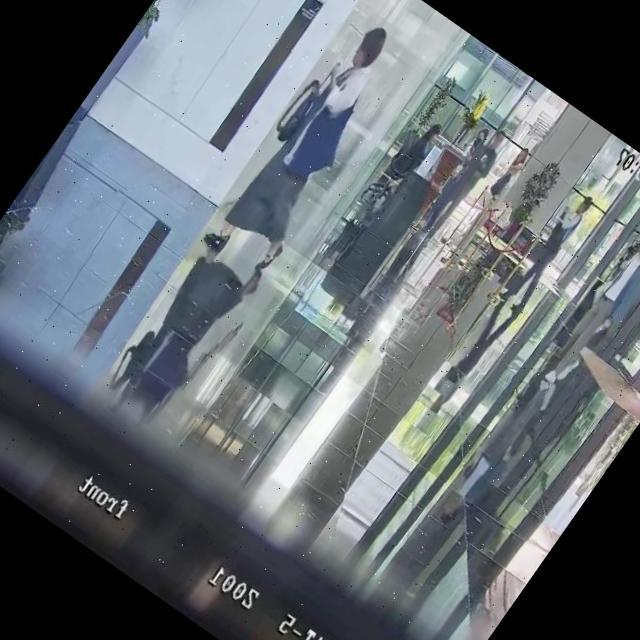person: (201, 11, 420, 281), (530, 219, 640, 406), (408, 113, 517, 249), (498, 186, 598, 313), (444, 144, 536, 262), (412, 123, 494, 232), (388, 114, 446, 184)
